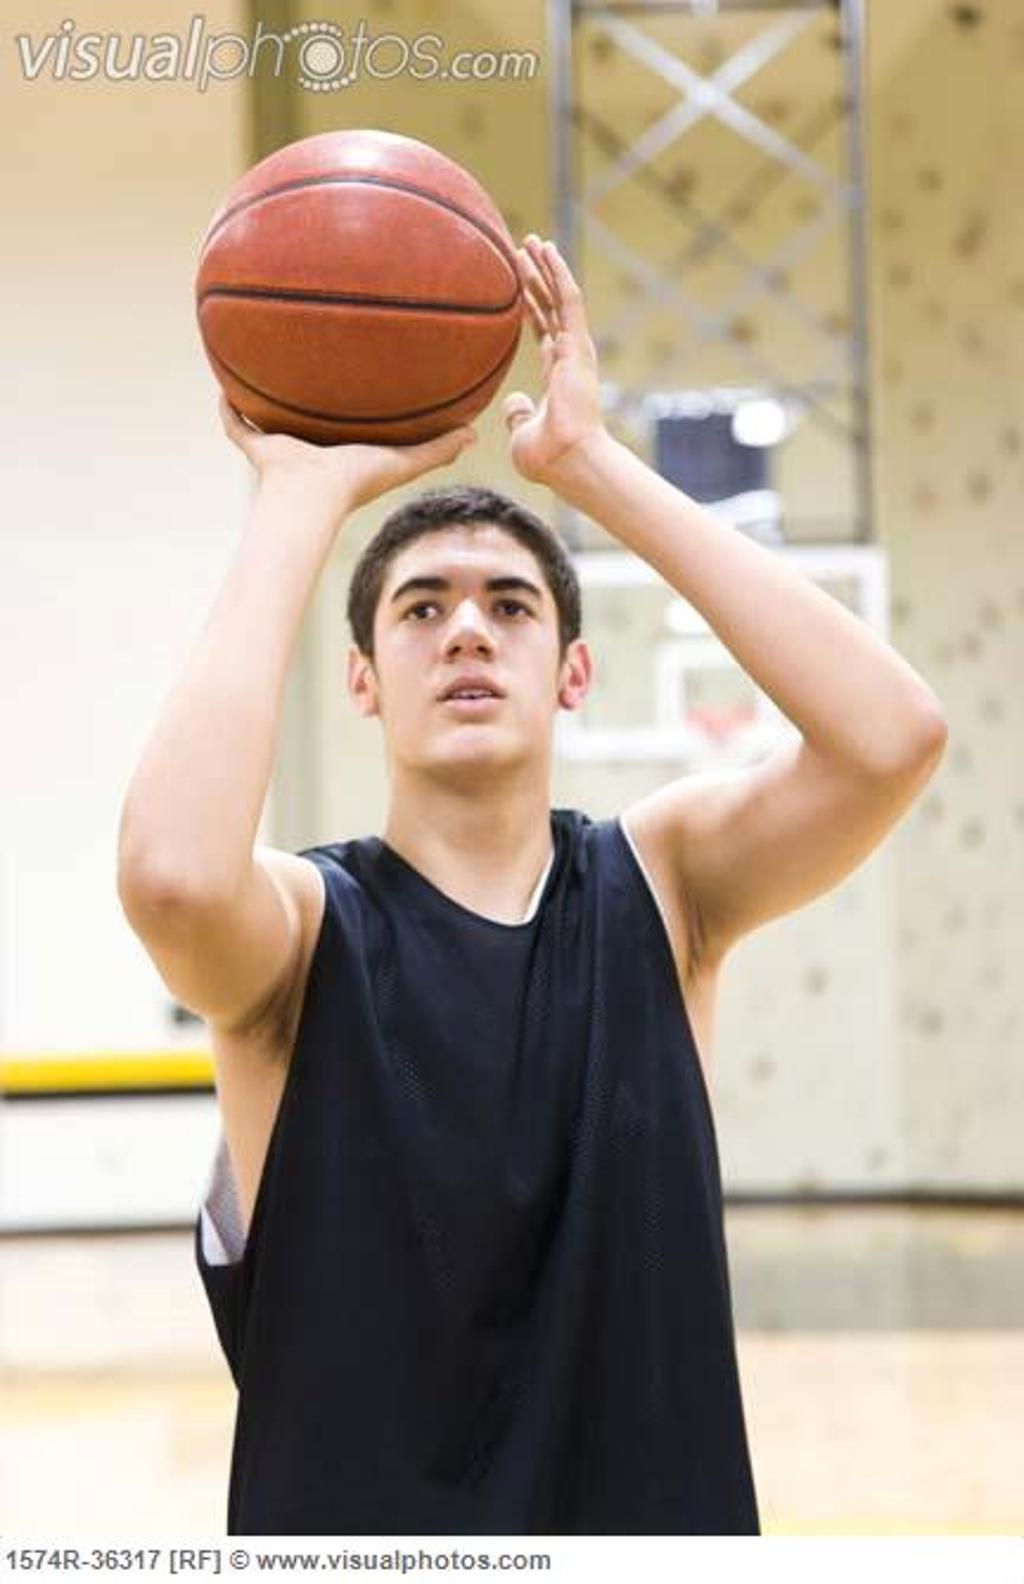face: (375, 508, 564, 765)
